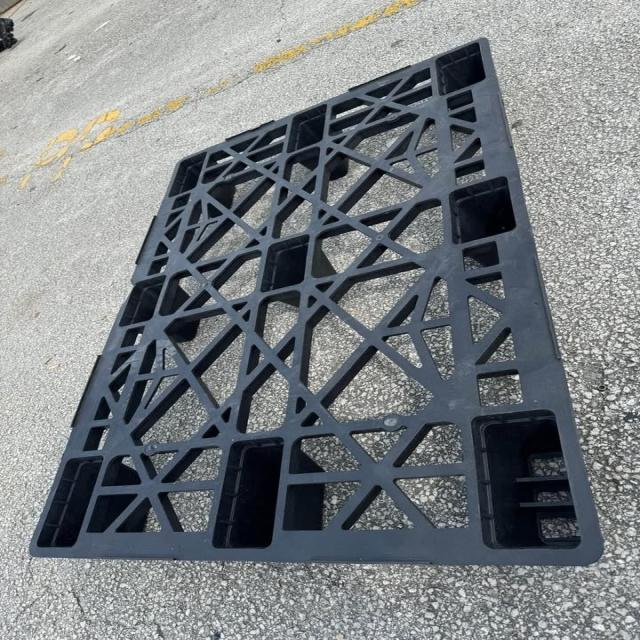non-igps: (19, 27, 618, 576)
